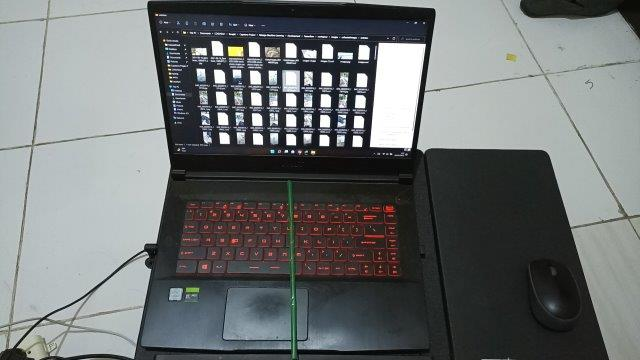sedotan: (286, 181, 299, 360)
